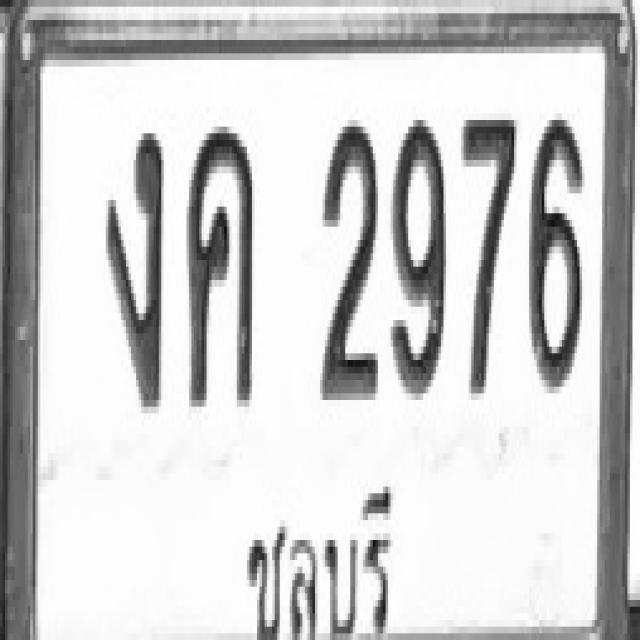13KhorKhwai: (187, 120, 254, 407)
16NgorNgu: (104, 126, 162, 406)
2: (318, 116, 376, 396)
6: (528, 113, 583, 387)
7: (460, 110, 515, 397)
9: (389, 114, 445, 394)
Chonburi: (234, 473, 396, 640)
